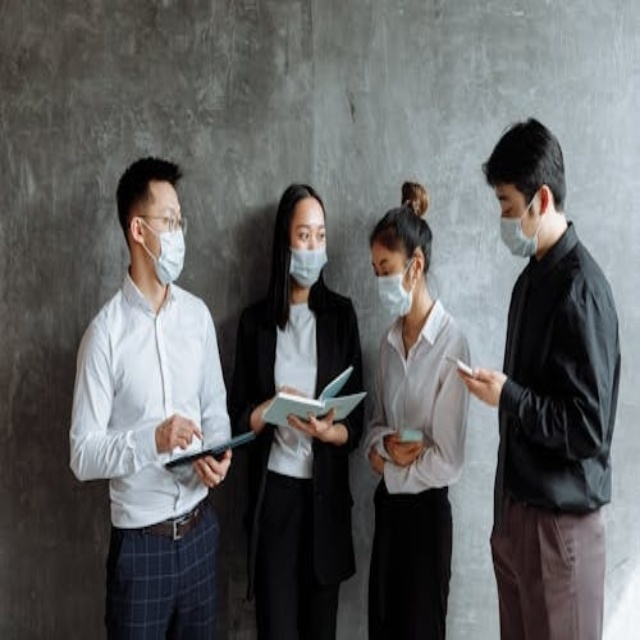Gafas: (138, 213, 188, 235)
Mascara: (138, 220, 186, 285), (500, 192, 543, 257), (376, 258, 418, 319), (287, 244, 328, 288)
Sin_gafas: (292, 211, 328, 248), (494, 188, 520, 219), (374, 252, 401, 281)
Sin_guantes: (454, 364, 503, 407), (155, 413, 202, 457), (190, 443, 232, 488), (286, 406, 337, 441), (383, 432, 425, 468)
